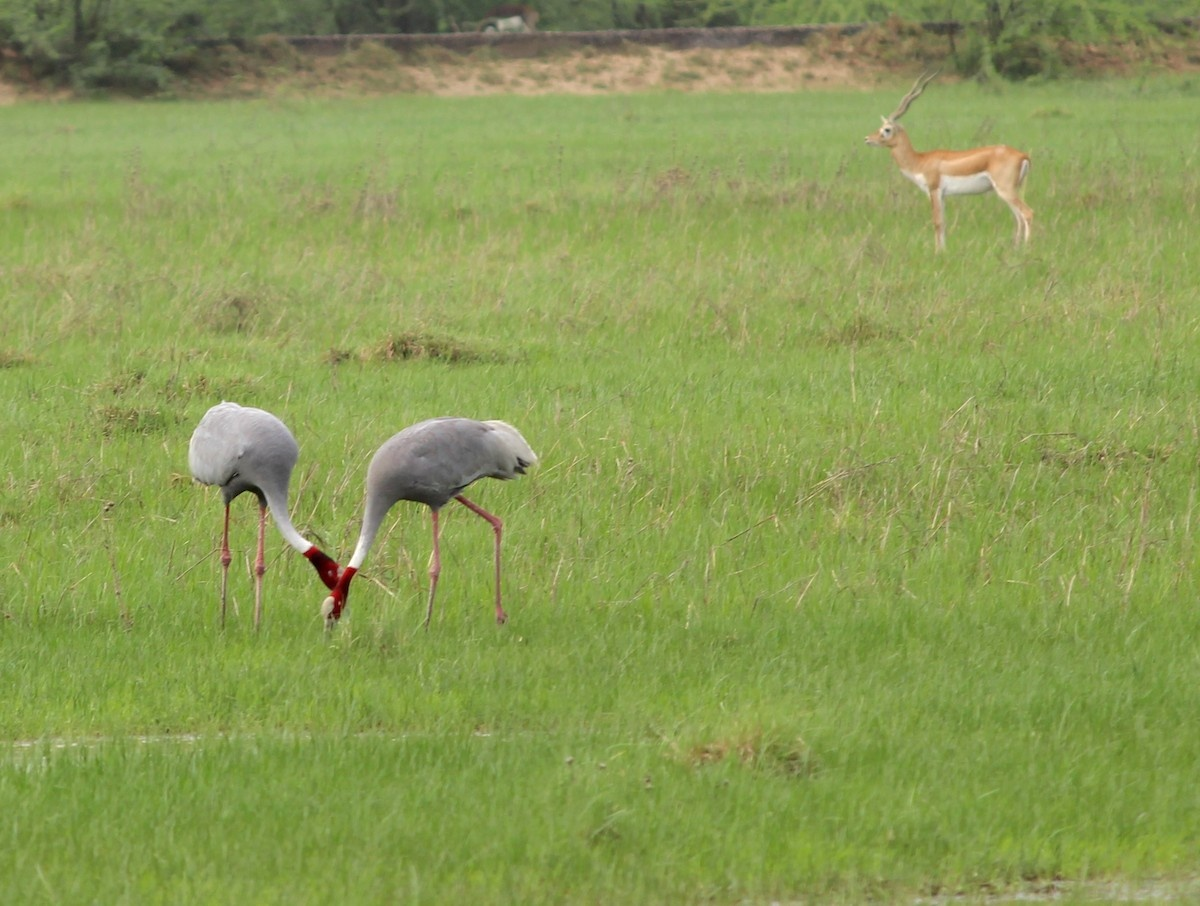crane: (320, 424, 531, 640), (191, 382, 351, 614)
